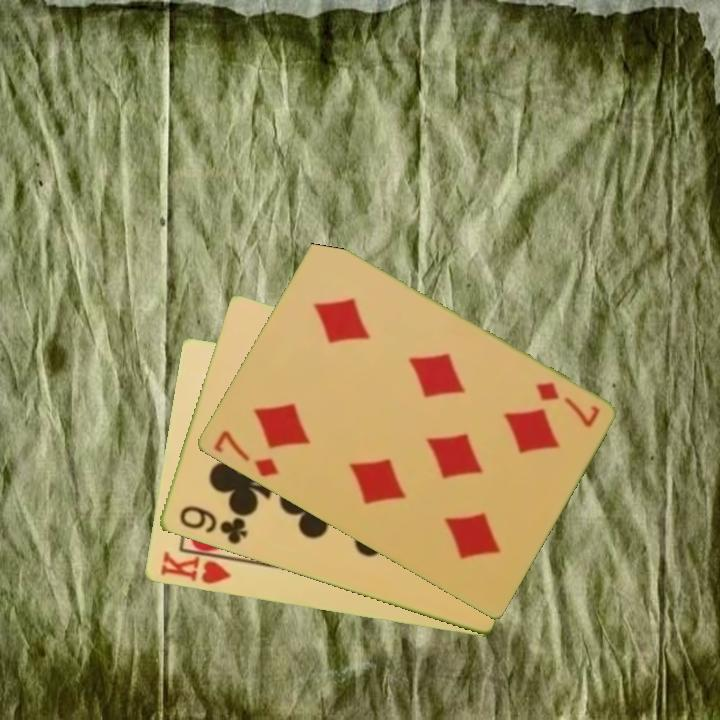7d: (209, 426, 281, 481), (531, 379, 602, 431)
9c: (175, 502, 250, 548)
Kh: (156, 548, 240, 587)
